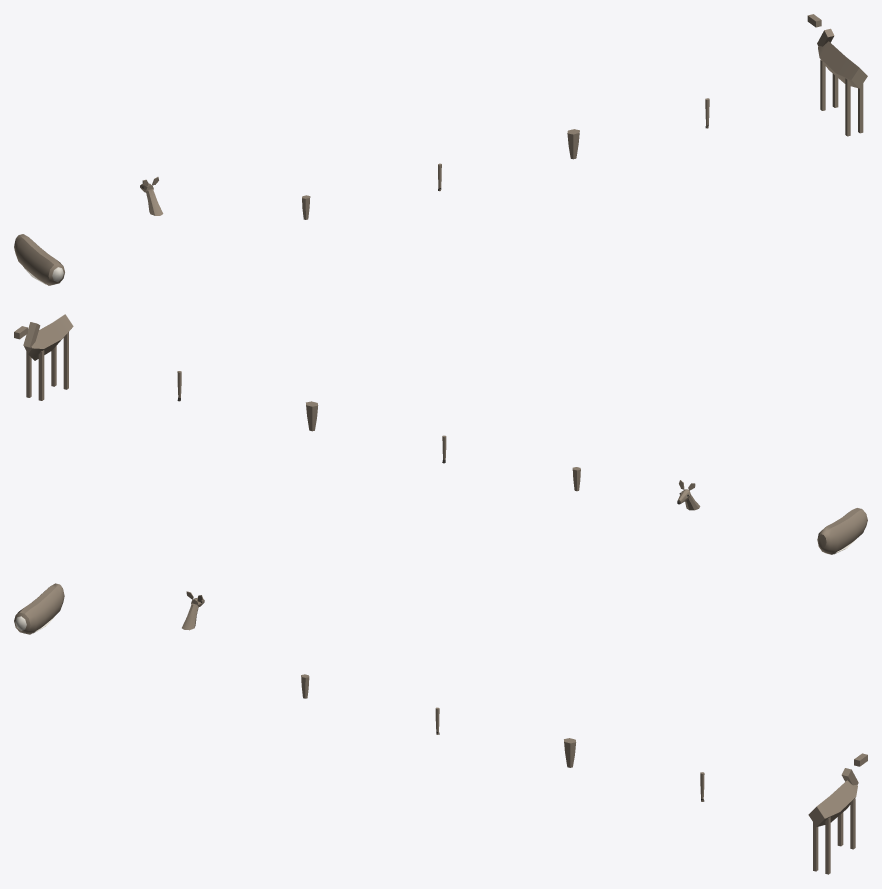
File: deer.glb
3 renders of one model, top to bottom at view 1: azimuth 30°, elevation 25°; view 2: azimuth 150°, elevation 25°; view 3: azimuth 330°, elevation 25°, orthographic.
Visible parts, largest first — view 1: far, body; view 2: far, body; view 3: far, body.
Part boxes in pixels (x1,y1,x2,y2): far: (807,14,867,136); body: (14,234,64,285); far: (14,314,73,400); body: (817,508,867,554); far: (808,753,867,874); body: (14,583,64,634).
Bounding box in the file's own units: 9.84 × 1.06 × 1.1.
